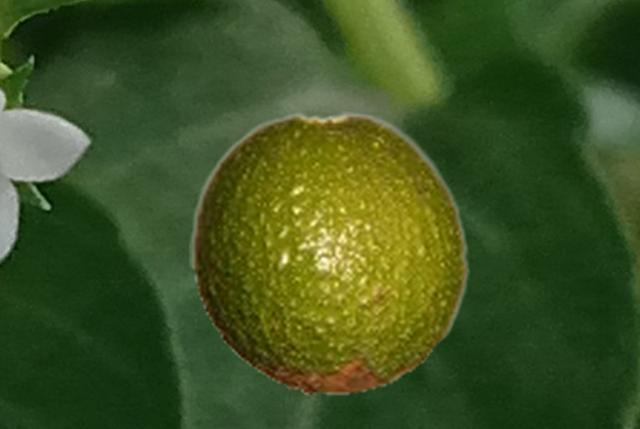avocado: (189, 111, 471, 396)
